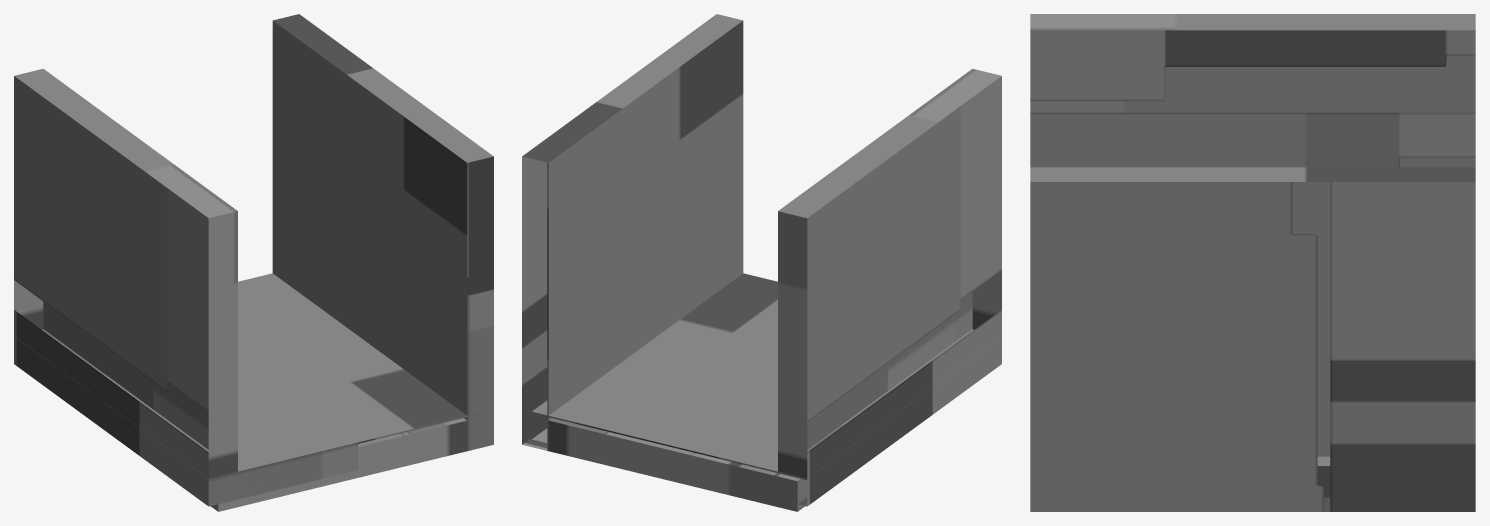
3 views of the same model, side by side, from view 1: azimuth 30°, elevation 25°; view 2: azimuth 150°, elevation 25°; view 3: azimuth 270°, elevation 25° (orthographic). The views are drawn at different scales.
Size of the model in its own units: 1 by 0.9959 by 1.19.
